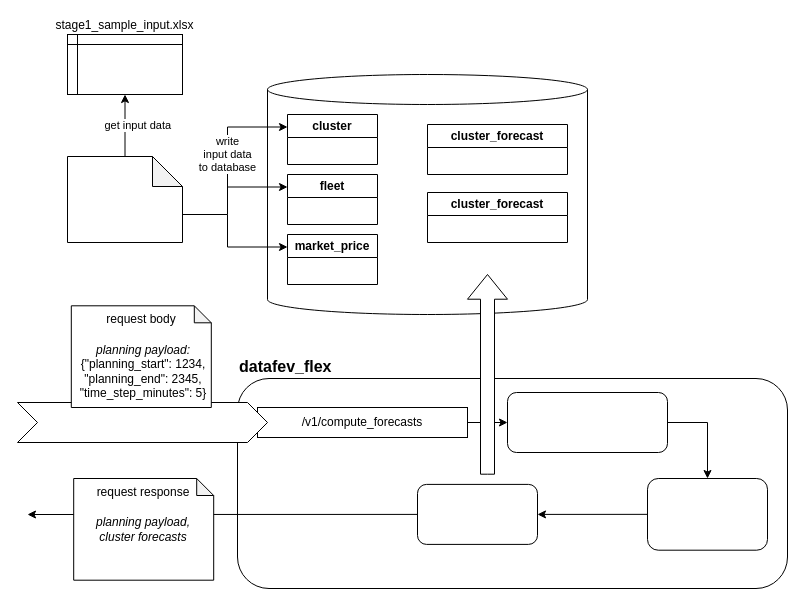
The diagram is 805 pixels wide and 606 high, and some of its shapes have lost their labels. Each missing label, with the centre of its shape:
compute cluster forecasts: (707,514)
import_excel_inputs.py: (124,199)
read cluster, fleet and day-ahead market prices for given planning payload: (587,422)
REQUEST: (142,422)
write forecasts to db, return response: (477,513)
